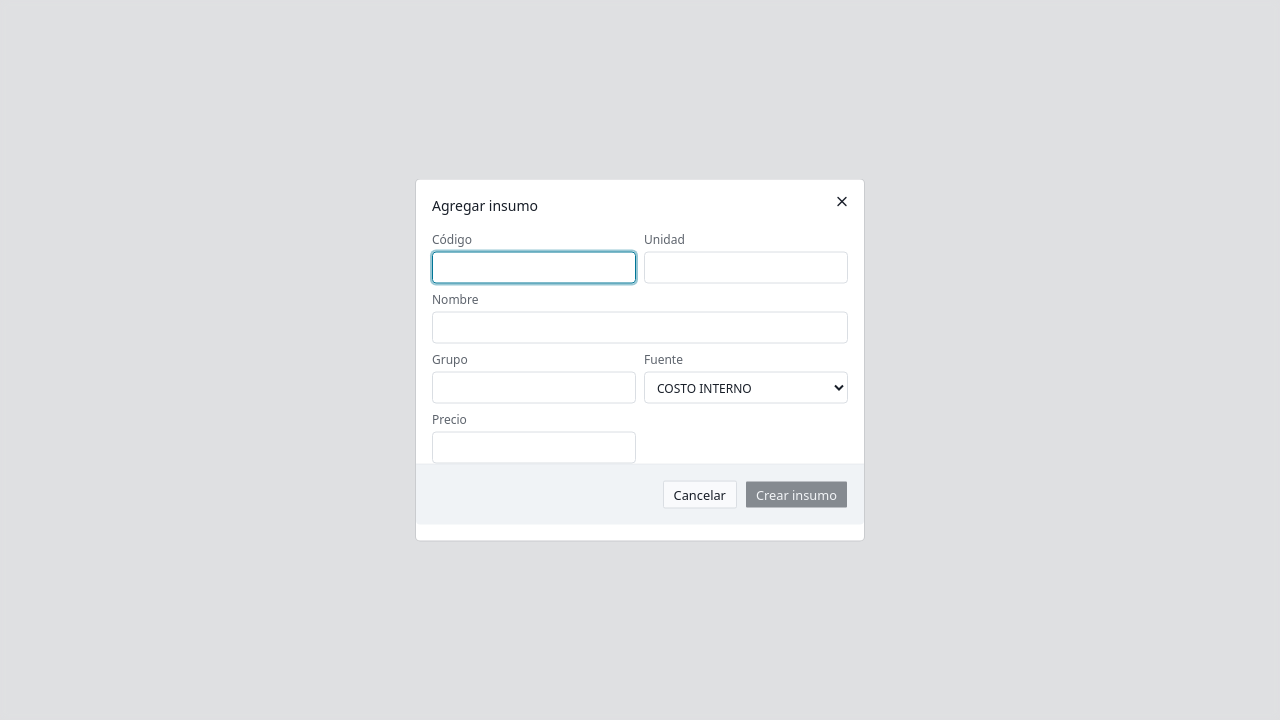
Test: DialogoAgregarInsumo › si la consulta de conflicto falla, no bloquea el formulario (falla abierta)
This screenshot has width=1280, height=720.
In the field labelled "Código": [534, 268] box x1=432 y1=252 x2=636 y2=284, type "C1"
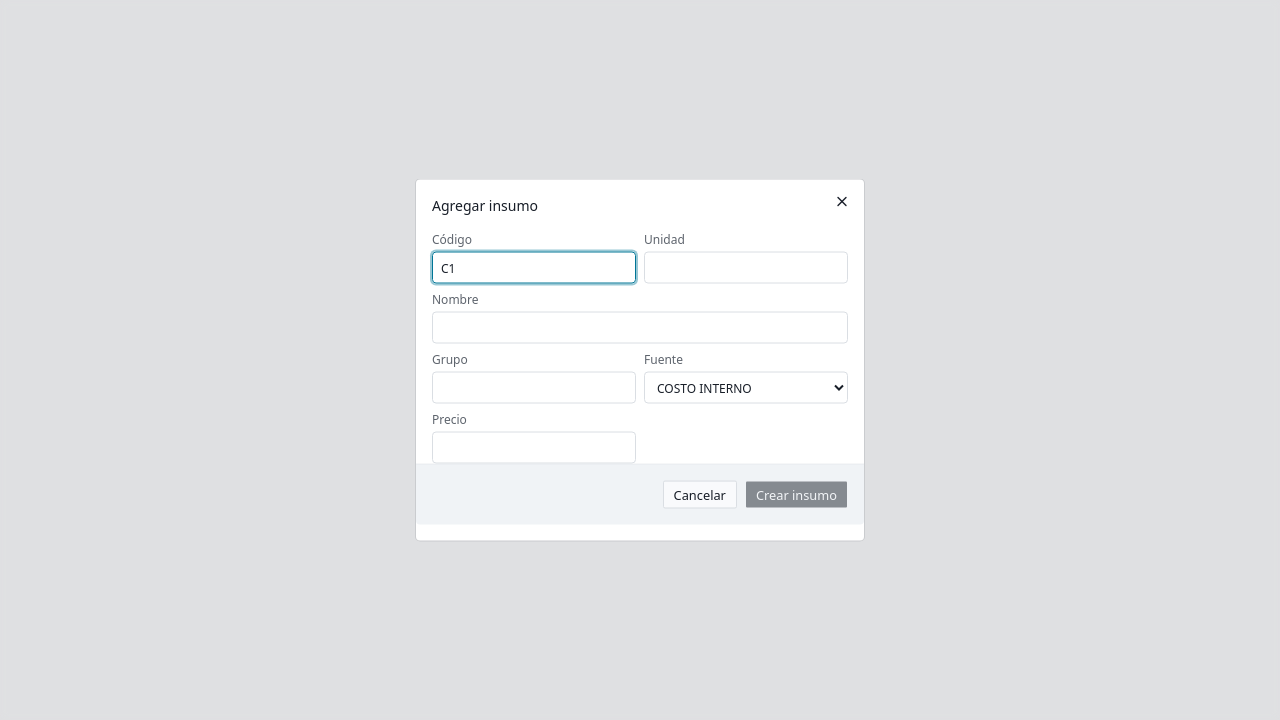
In the field labelled "Nombre": [640, 328] box x1=432 y1=312 x2=848 y2=344, type "CEMENTO GRIS"
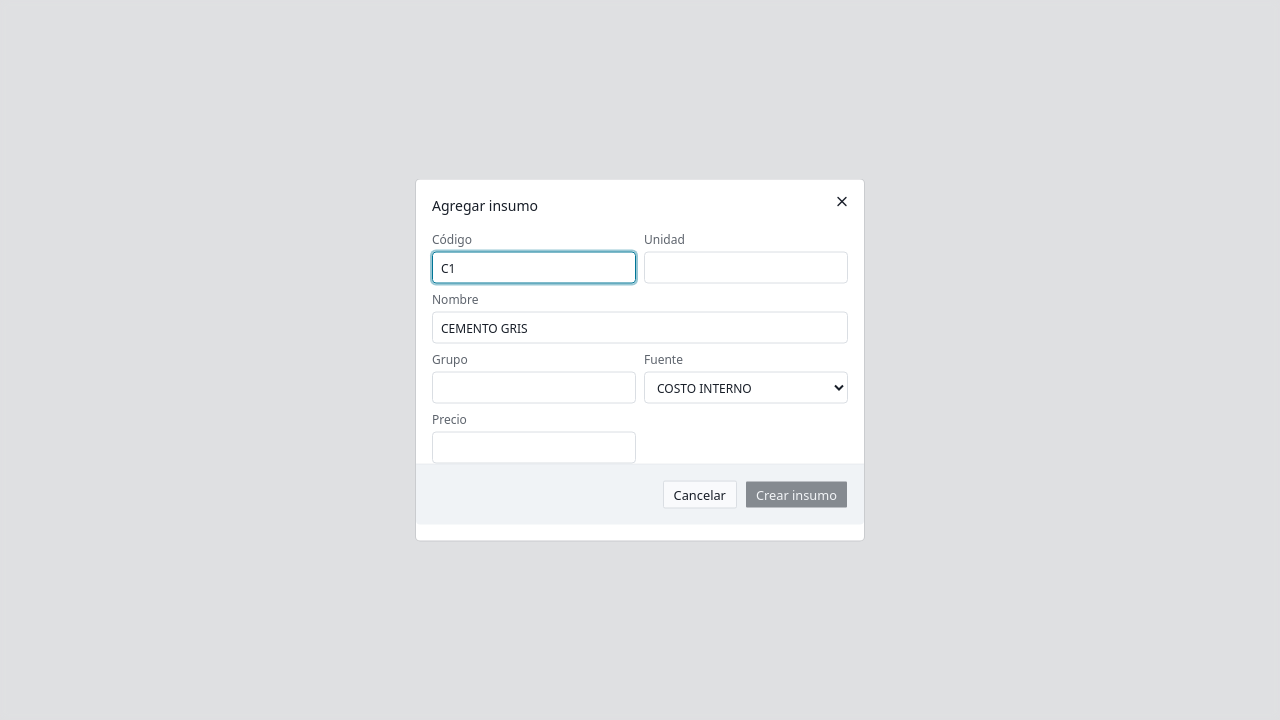
In the field labelled "Unidad": [746, 268] box x1=644 y1=252 x2=848 y2=284, type "KG"
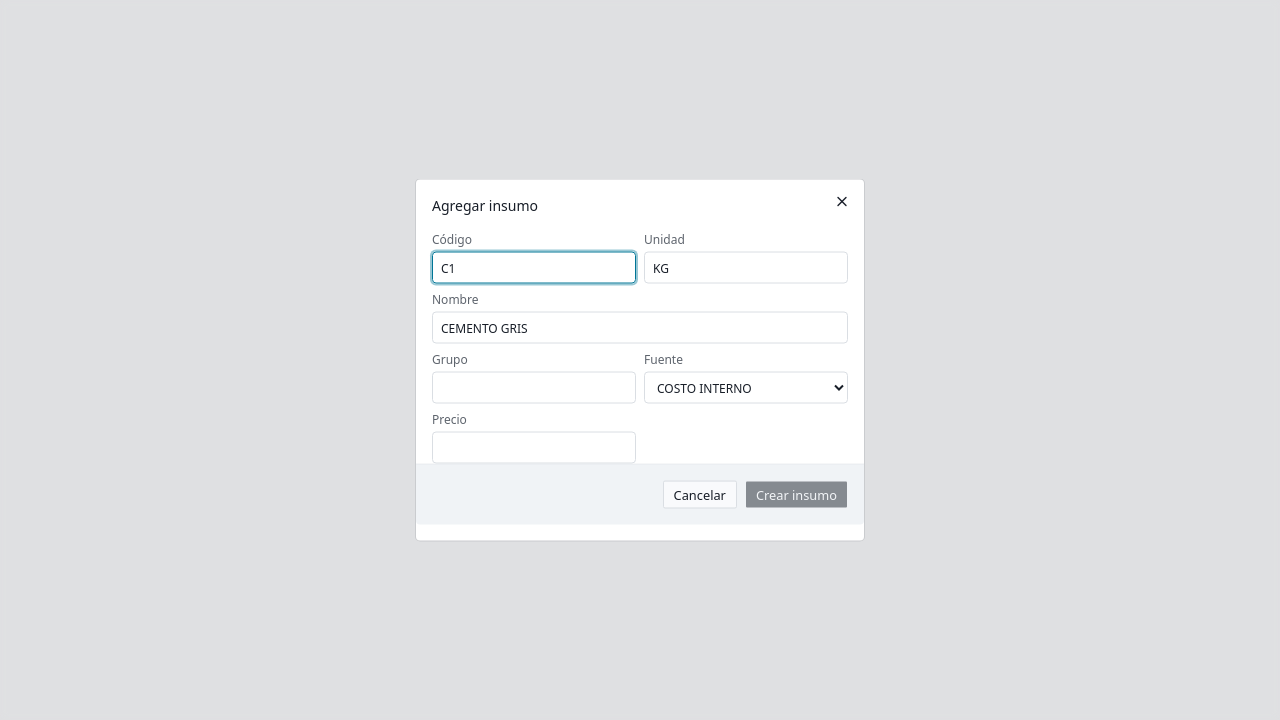
In the field labelled "Grupo": [534, 388] box x1=432 y1=372 x2=636 y2=404, type "MAT"
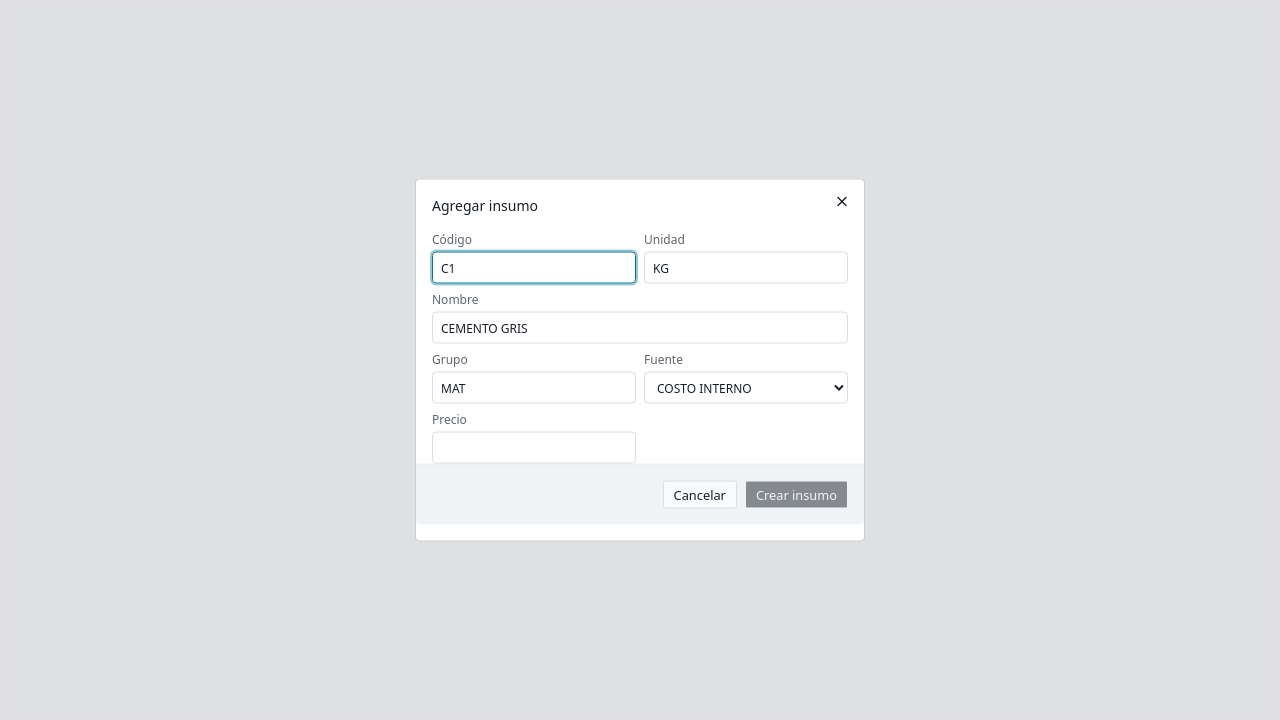
Select "PRECIO IDU" in the dropdown labelled "Fuente": [746, 388] box x1=644 y1=372 x2=848 y2=404
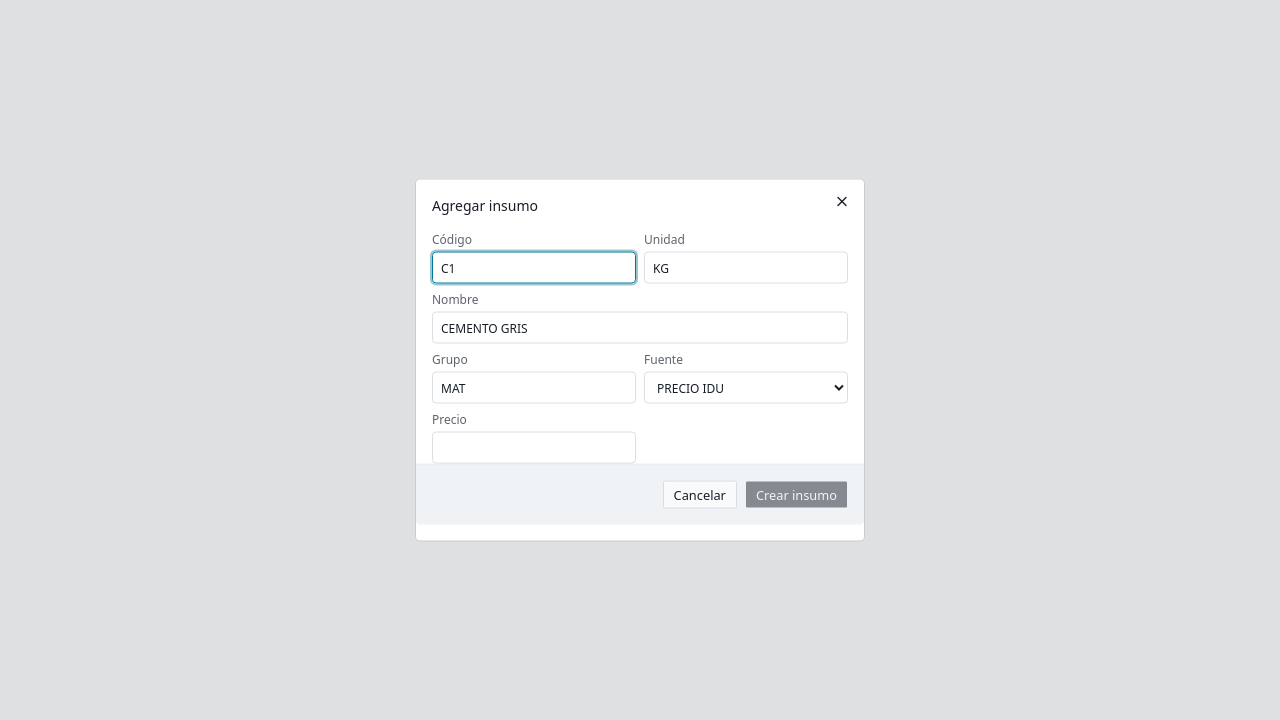
In the number field labelled "Precio": [534, 448] box x1=432 y1=432 x2=636 y2=464, type "100"
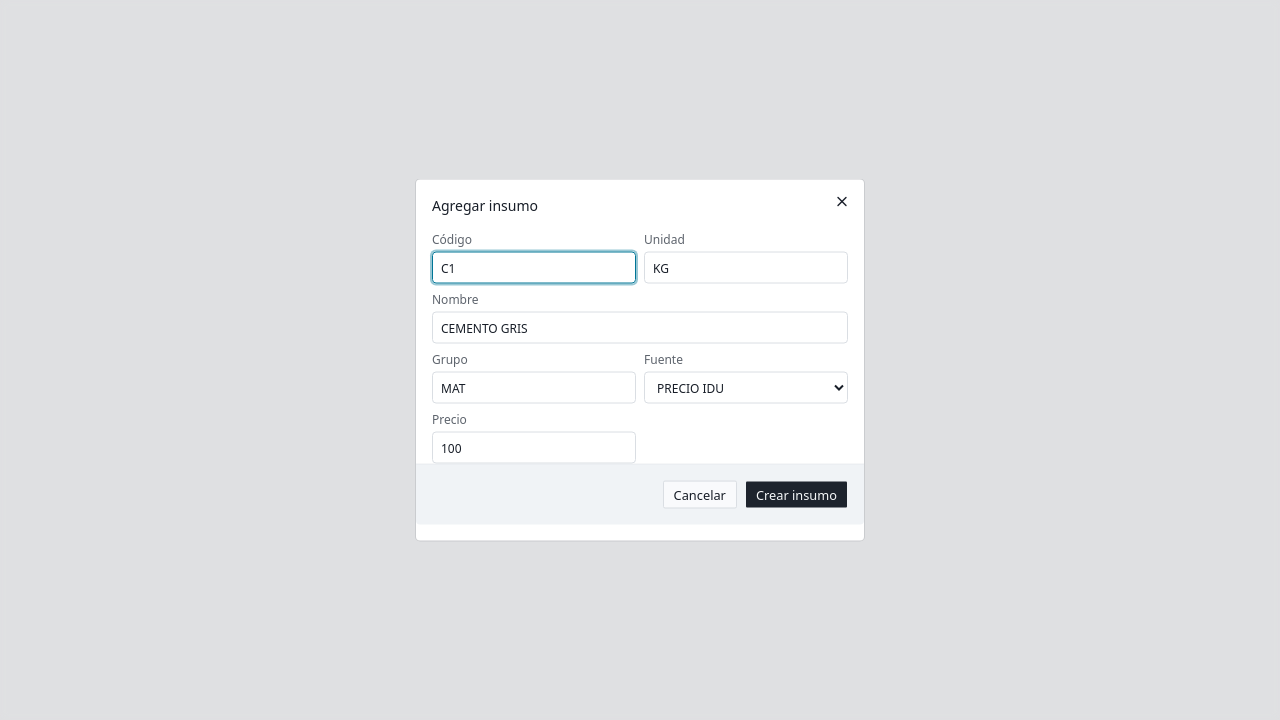
Result: the button "Crear insumo" is enabled at x1=745 y1=480 x2=848 y2=508
